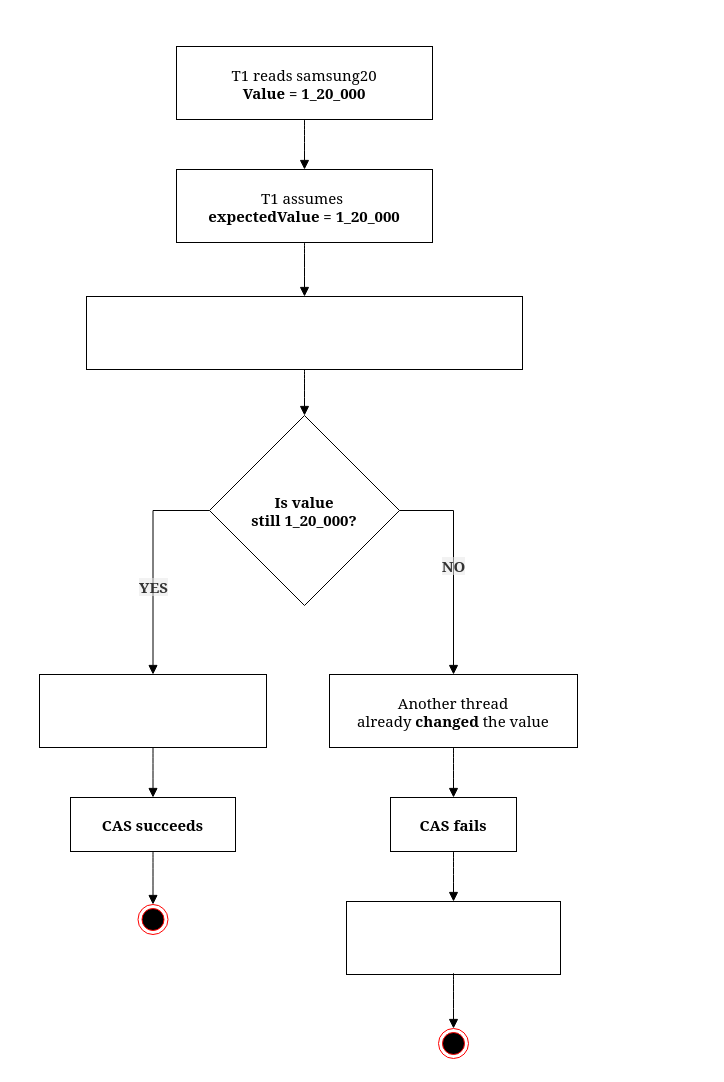
The diagram is 724 pixels wide and 1082 high, and some of its shapes have lost their labels. The box of each missing label's shape, as (x1, y1, x2, y2) in pixels:
T1 does not overwrite the current value: (346, 900, 560, 974)
T1 performs CAS(expectedValue, newValue) = CAS(1_20_000, 1_30_000): (86, 296, 522, 370)
Update value 1_20_000 → 1_30_000: (38, 674, 266, 748)
